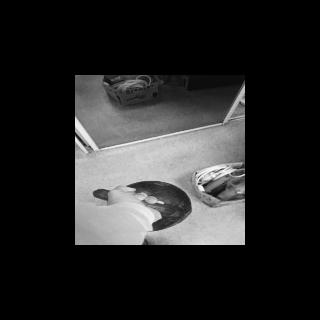kettlebell: (93, 180, 193, 234)
